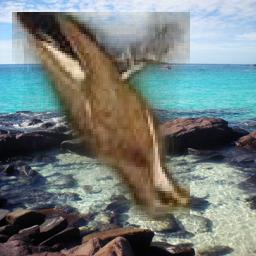Cuckoo: (12, 13, 190, 222)
